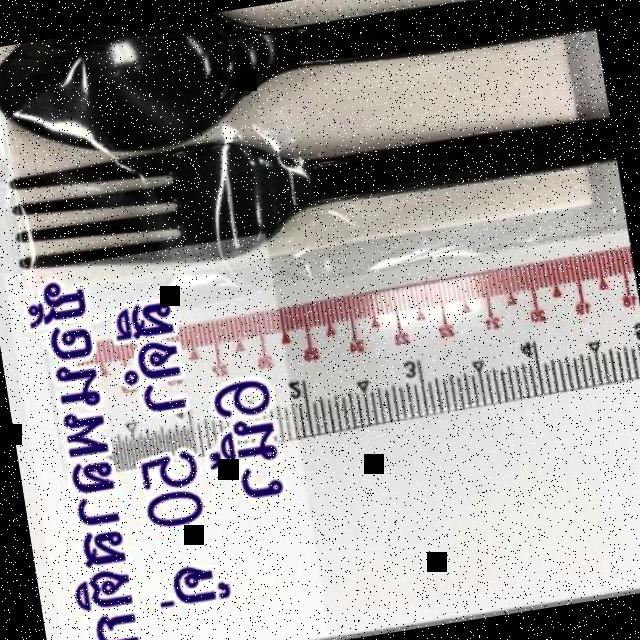plastic_cultery: (0, 0, 624, 292)
